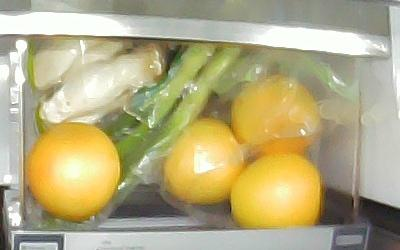grapefruit: (27, 123, 120, 221), (229, 152, 320, 228)
grapefruit_vinyl: (231, 75, 322, 155), (163, 117, 246, 203)
